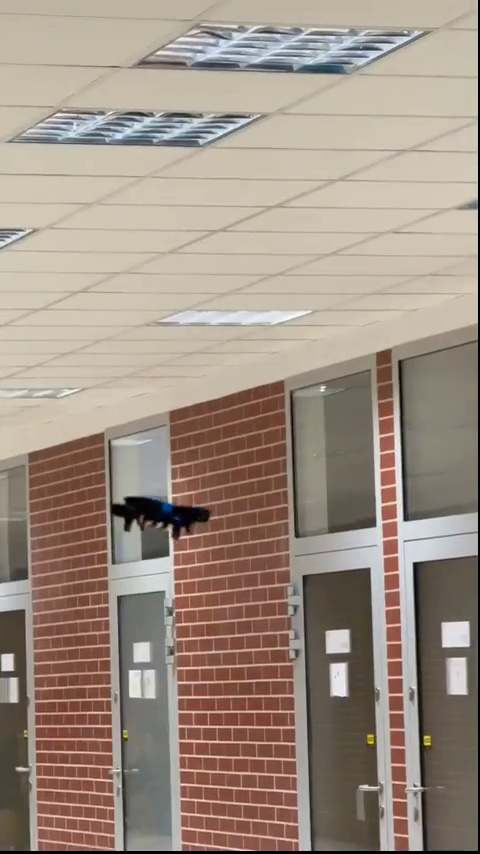drone: (112, 493, 213, 542)
